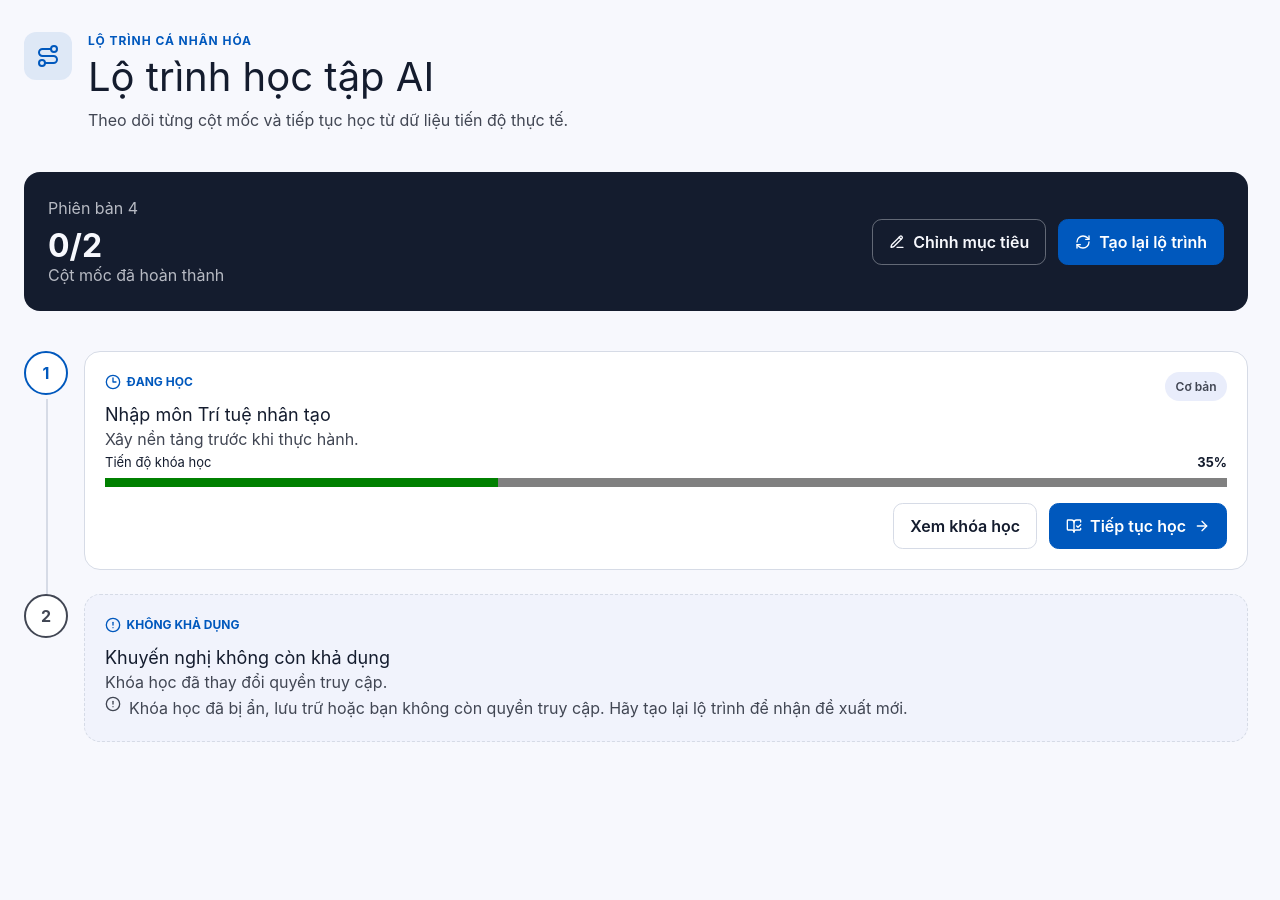
it: LearningPathDashboard › regenerates and reloads the enriched current path
Click the button "Tạo lại lộ trình" at (1141, 242), box x1=1058 y1=219 x2=1224 y2=265
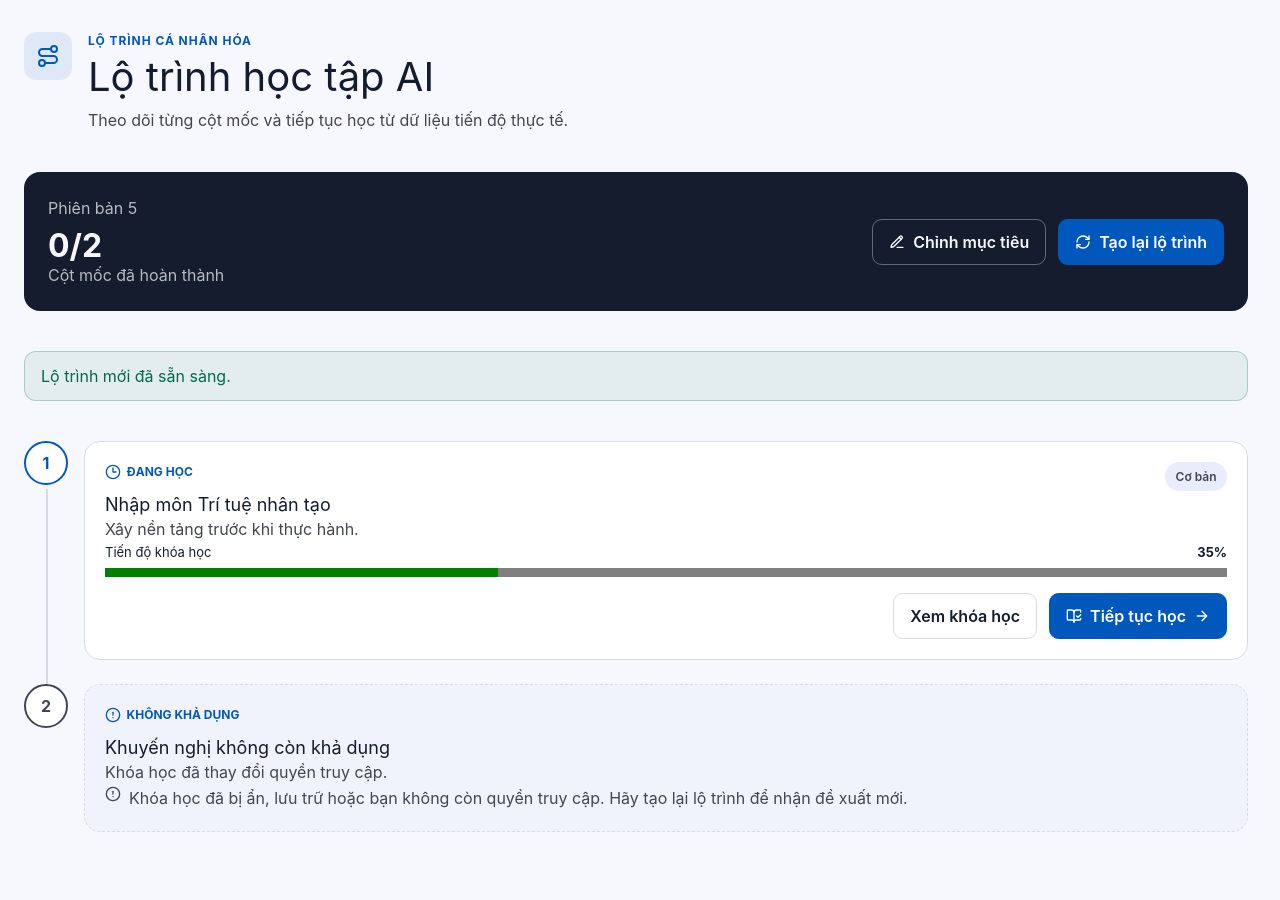
Now the text "Phiên bản 5" is shown, box x1=48 y1=198 x2=137 y2=218
